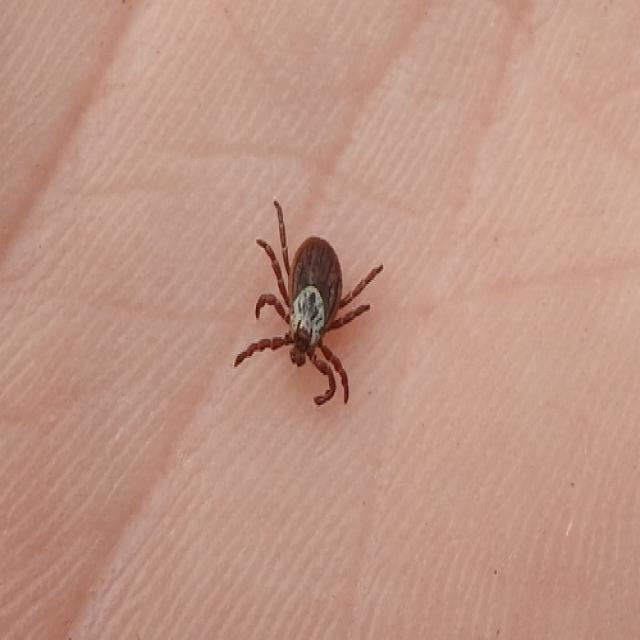Dermacentor Reticulatus-F: (236, 201, 383, 404)
